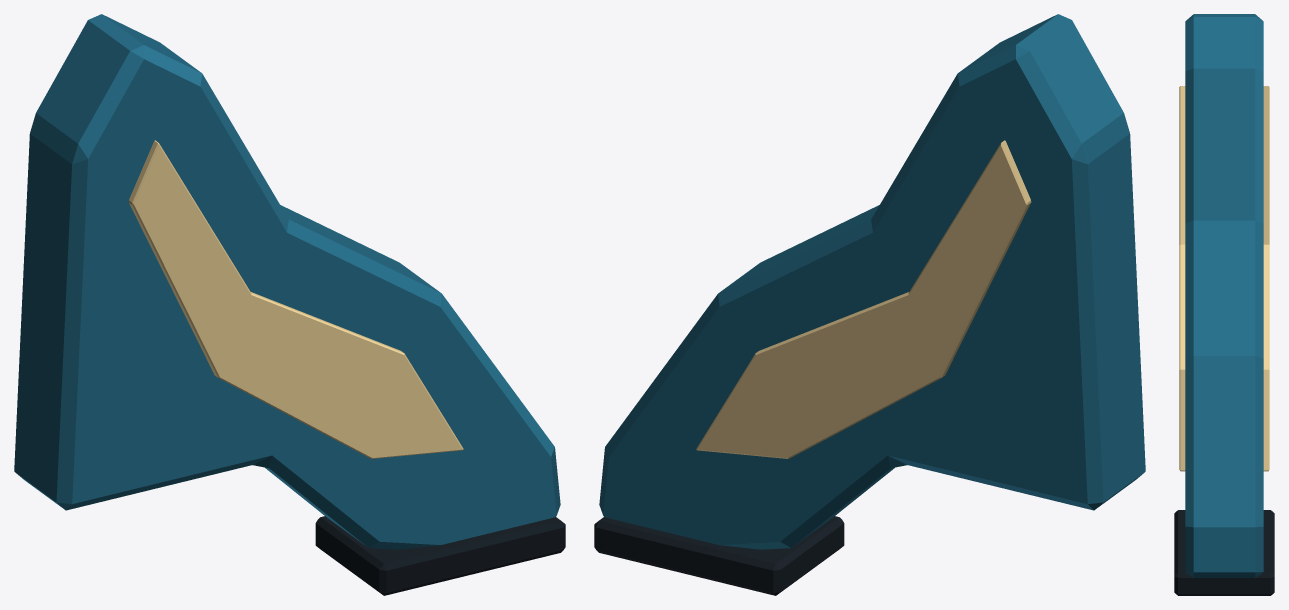
The model's file is ER_CurvedLandingFin.fbx.
3 renders of one model, left to right at view 1: azimuth 30°, elevation 25°; view 2: azimuth 150°, elevation 25°; view 3: azimuth 270°, elevation 25°, orthographic. The views are drawn at different scales.
Parts seen in each view (by area): view 1: ER_CurvedLandingFin; view 2: ER_CurvedLandingFin; view 3: ER_CurvedLandingFin.
Part boxes in pixels (bbox=[...]): ER_CurvedLandingFin: bbox=[14, 14, 565, 595]; ER_CurvedLandingFin: bbox=[594, 14, 1145, 595]; ER_CurvedLandingFin: bbox=[1174, 14, 1274, 595].
Size of the model in its own units: 0.7578 by 0.8604 by 0.18.
Materials: 3 (3 with a texture image).
